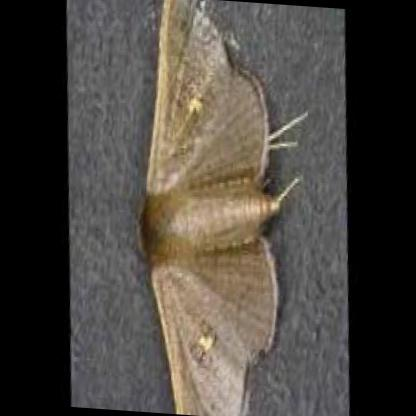Leaf Webber: (133, 0, 290, 416)
